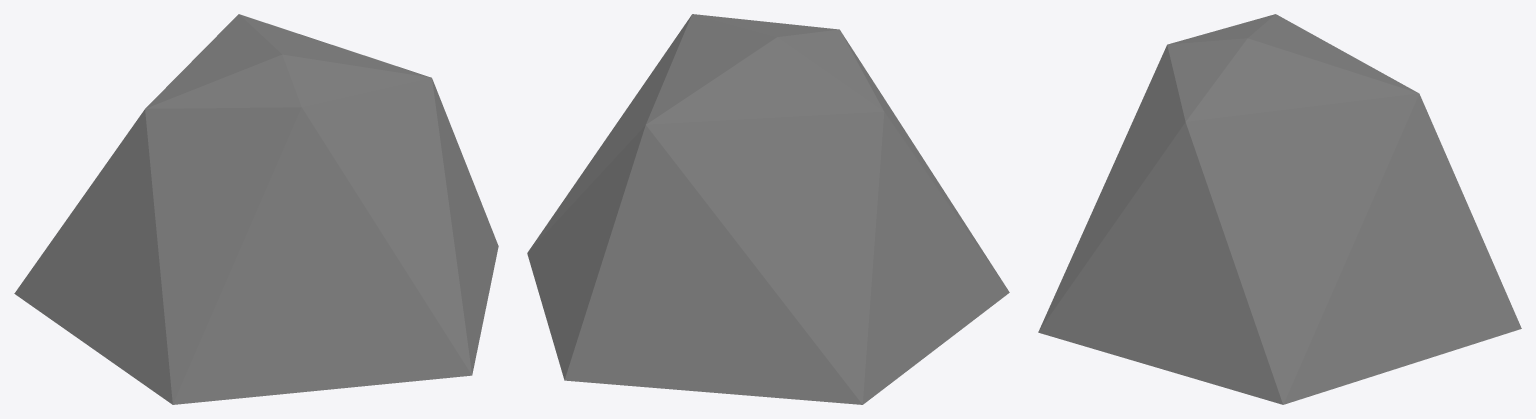
The model's file is object_60_lev1.glb.
3 views of the same model, side by side, from view 1: azimuth 30°, elevation 25°; view 2: azimuth 150°, elevation 25°; view 3: azimuth 270°, elevation 25° (orthographic). The views are drawn at different scales.
Parts seen in each view (by area): view 1: object_60_lev1; view 2: object_60_lev1; view 3: object_60_lev1.
Part boxes in pixels (x1=…): object_60_lev1: x1=14, y1=14, x2=498, y2=404; object_60_lev1: x1=527, y1=14, x2=1009, y2=404; object_60_lev1: x1=1038, y1=14, x2=1521, y2=404.
Size of the model in its own units: 0.2566 by 0.1562 by 0.2682.
1 material, 1 textured.
